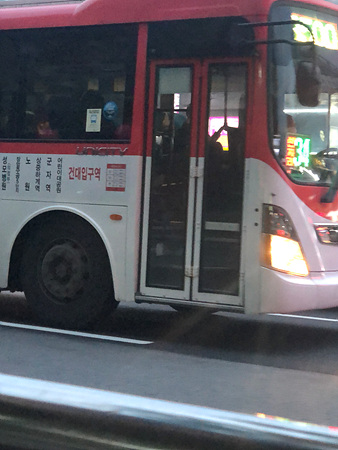entrance: (139, 54, 250, 308)
